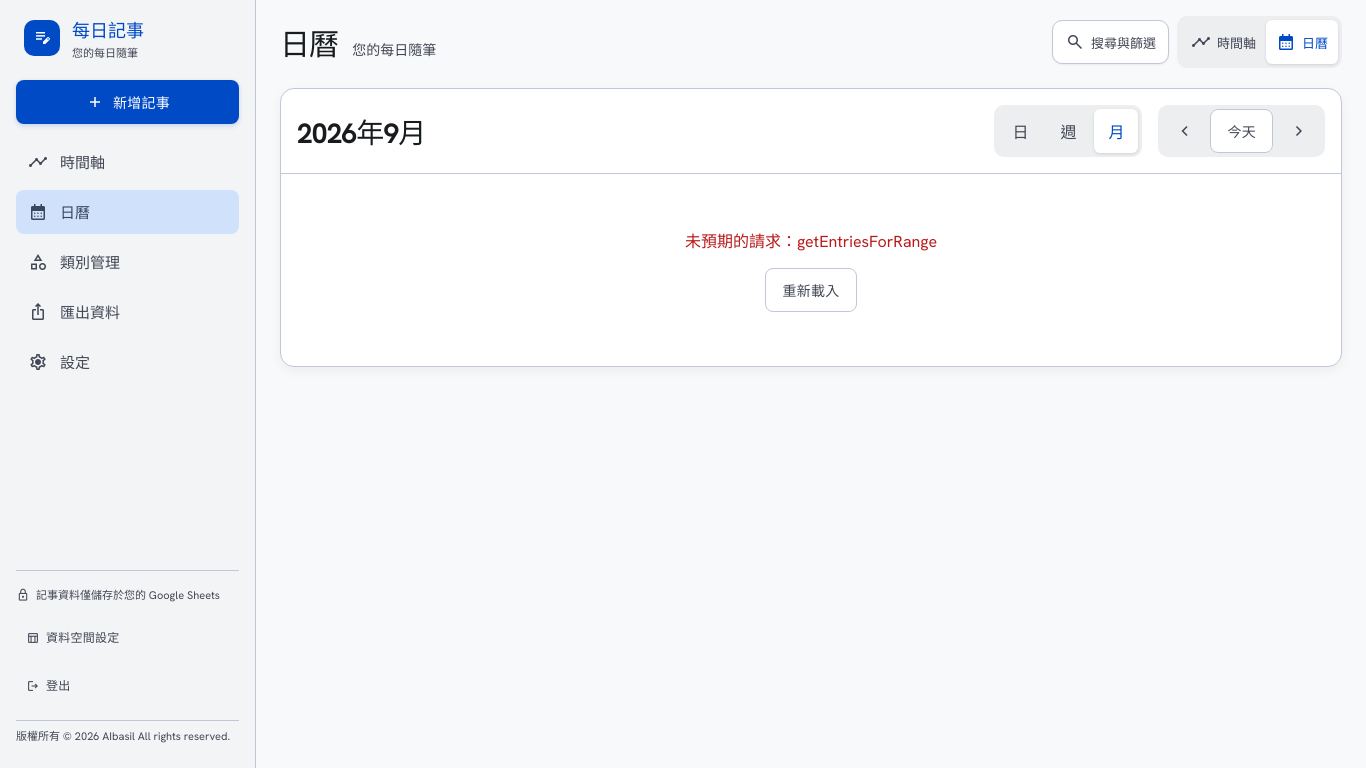
Test: 桌面與行動版導覽都提供設定頁，並以安全 provisioning status 顯示連線資訊
The width and height of the screenshot is (1366, 768).
Expected: the heading "每日記事" is shown, [72,16,144,42]
Click the button "設定" at (128, 362), box [16,340,239,384]
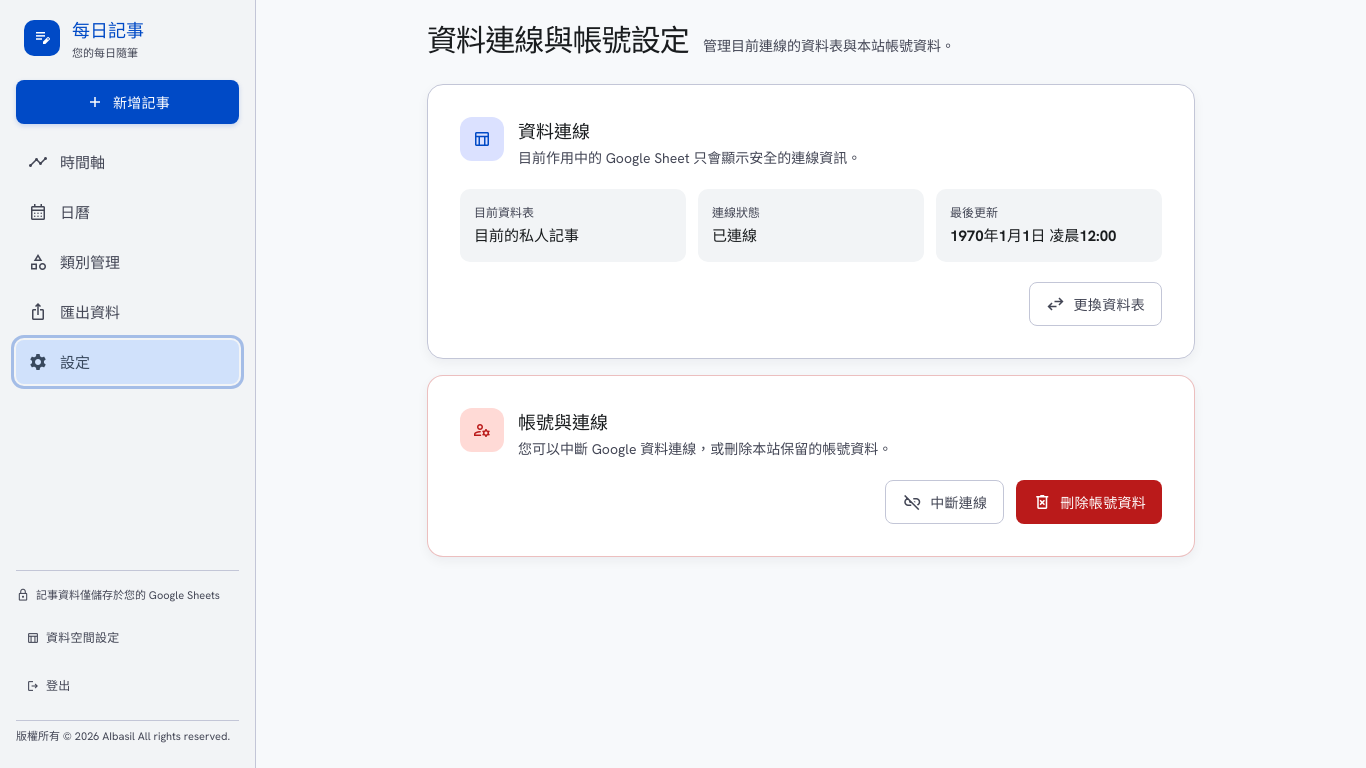
Expected: the heading "資料連線與帳號設定" is shown, [427,16,689,60]
Expected: the text "目前的私人記事" is shown, [474,226,579,246]
